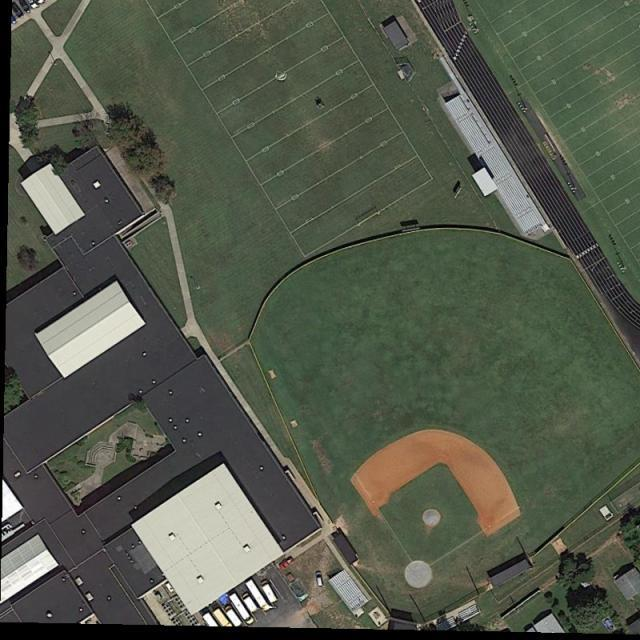vehicle: (229, 593, 254, 624), (246, 580, 270, 610), (224, 606, 243, 627), (262, 580, 277, 602), (242, 591, 258, 611), (278, 556, 296, 572), (314, 571, 324, 588), (19, 1, 32, 13), (13, 2, 23, 17), (26, 1, 39, 10), (35, 1, 46, 6)
